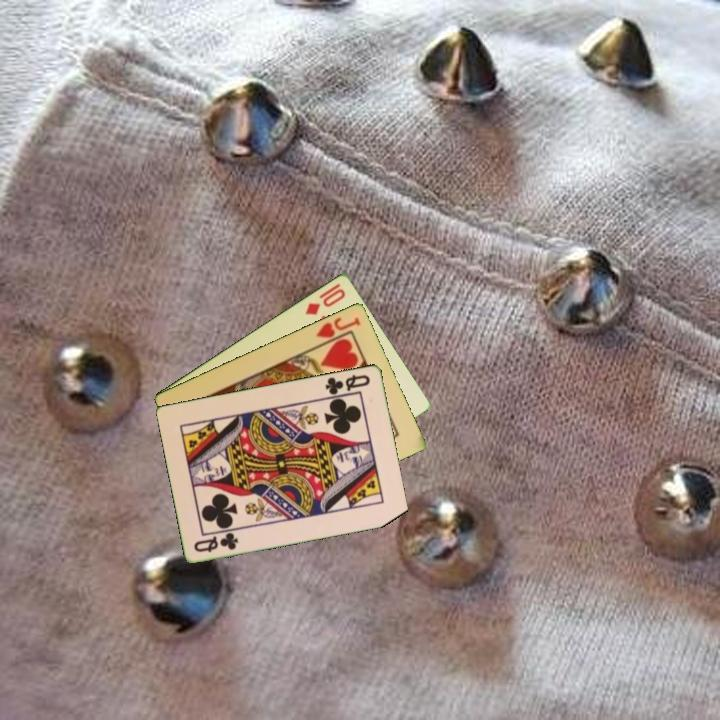10d: (301, 279, 348, 318)
Jh: (312, 313, 363, 340)
Qc: (322, 371, 373, 397), (190, 529, 241, 555)
